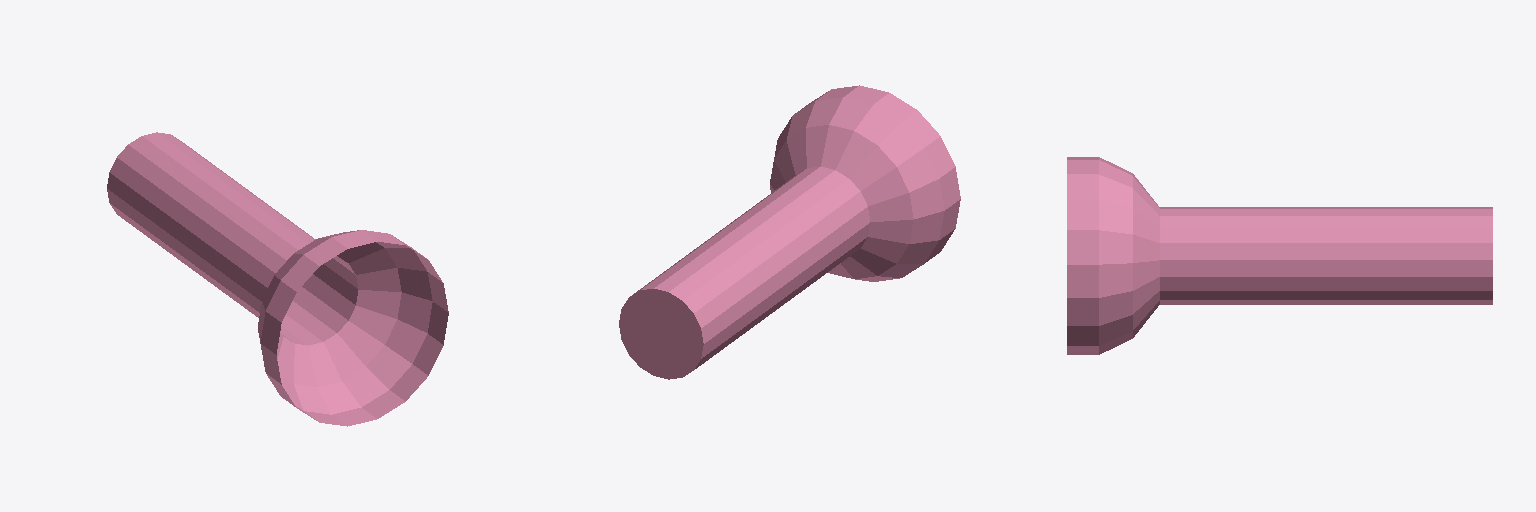
Rendered from nexus002.001.obj.
The picture shows the model from 3 angles: view 1: azimuth 30°, elevation 25°; view 2: azimuth 150°, elevation 25°; view 3: azimuth 270°, elevation 25°; orthographic projection.
Visible parts, largest first — view 1: nexus002.001; view 2: nexus002.001; view 3: nexus002.001.
Part boxes in pixels (left/top/right/bottom): nexus002.001: left=107, top=132, right=448, bottom=426; nexus002.001: left=619, top=85, right=960, bottom=379; nexus002.001: left=1067, top=157, right=1492, bottom=354.
Bounding box in the file's own units: 0.4712 × 0.4641 × 1.01.